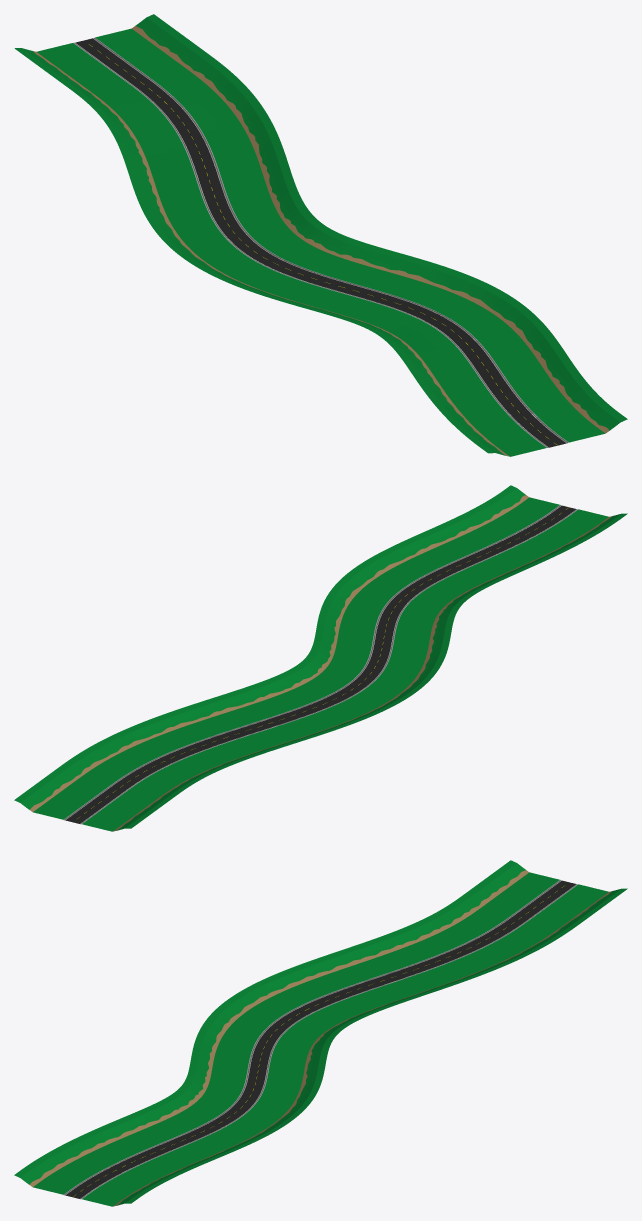
Rendered from HighWay-06.fbx.
The picture shows the model from 3 angles, top to bottom: view 1: azimuth 30°, elevation 25°; view 2: azimuth 150°, elevation 25°; view 3: azimuth 330°, elevation 25°; orthographic projection. The views are drawn at different scales.
Visible parts, largest first — view 1: HW-01; view 2: HW-01; view 3: HW-01.
Part boxes in pixels (box(x1,y1,x2,y2)): HW-01: box(14, 14, 627, 456); HW-01: box(14, 485, 627, 831); HW-01: box(14, 860, 627, 1206).
Size of what is drawn, in the model's own units: 152 by 7.83 by 621.
